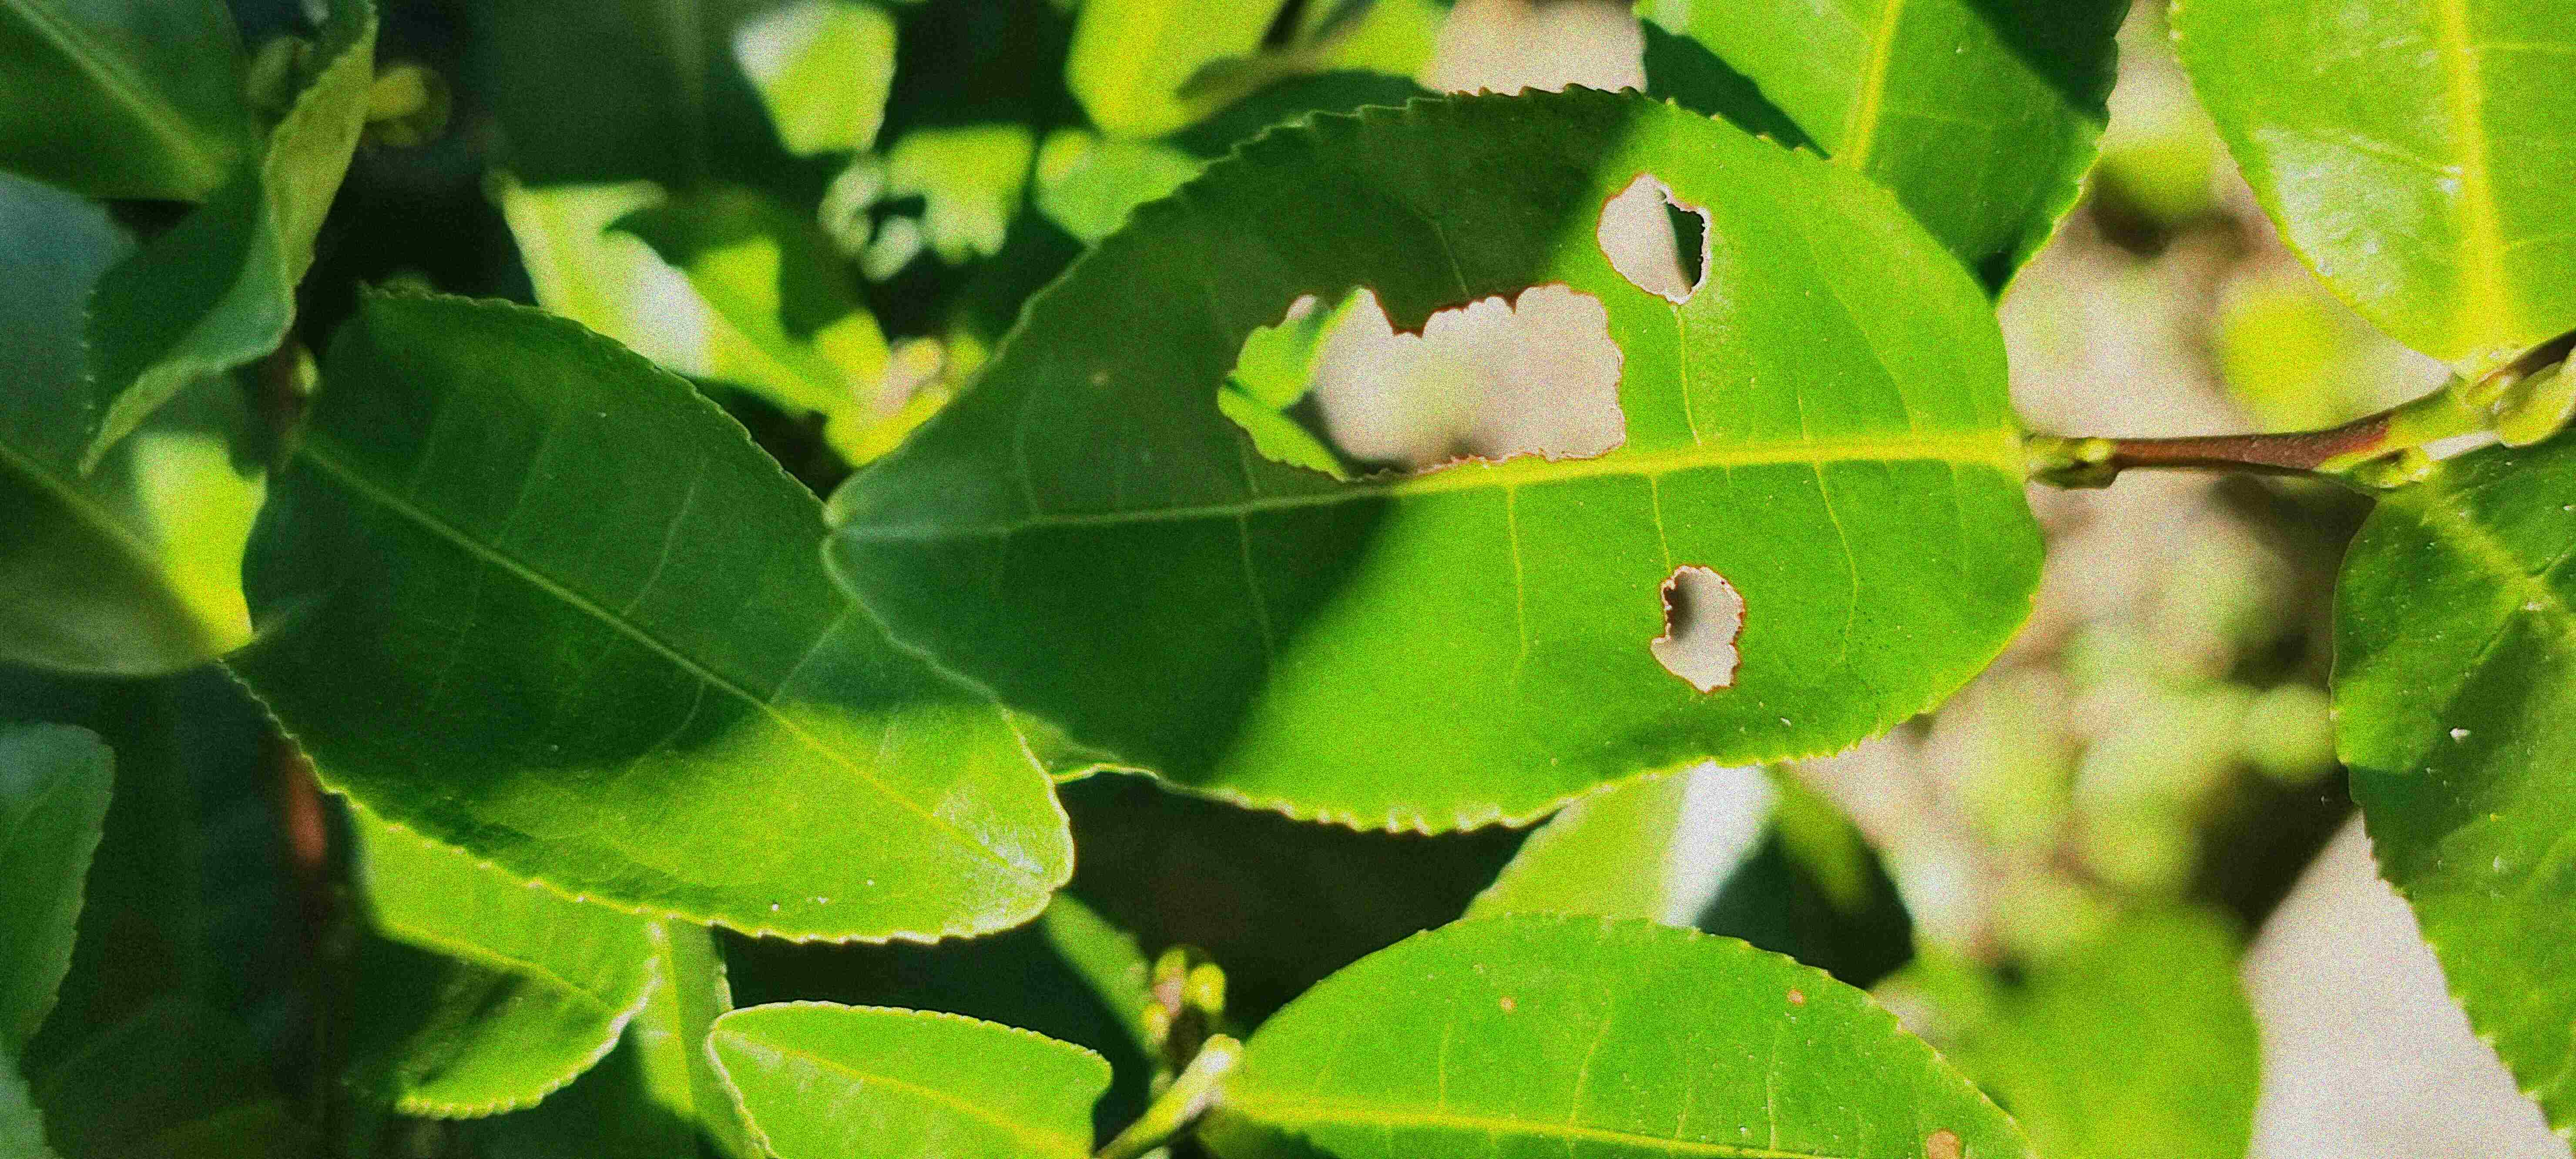chihuo_high: (823, 79, 2021, 839)
healthy: (223, 279, 1078, 955), (701, 998, 1111, 1156)
tanju_low: (1191, 906, 2044, 1157)
